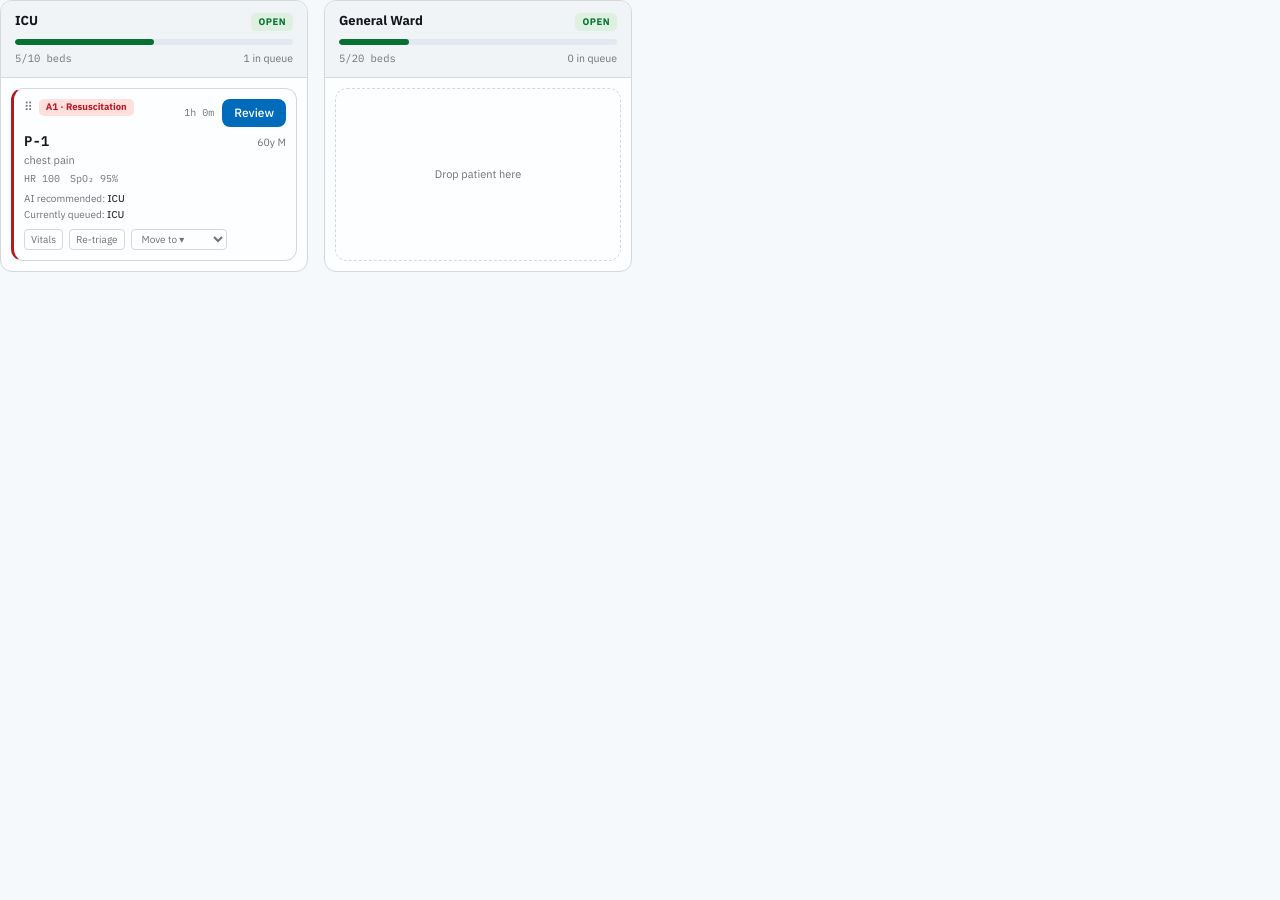
Test case: DepartmentQueueBoard › opens the AdmissionConfirmModal instead of admitting directly when confirmation_required is true
This screenshot has width=1280, height=900.
Click the button "Review": point(254, 113) [222, 99, 286, 127]
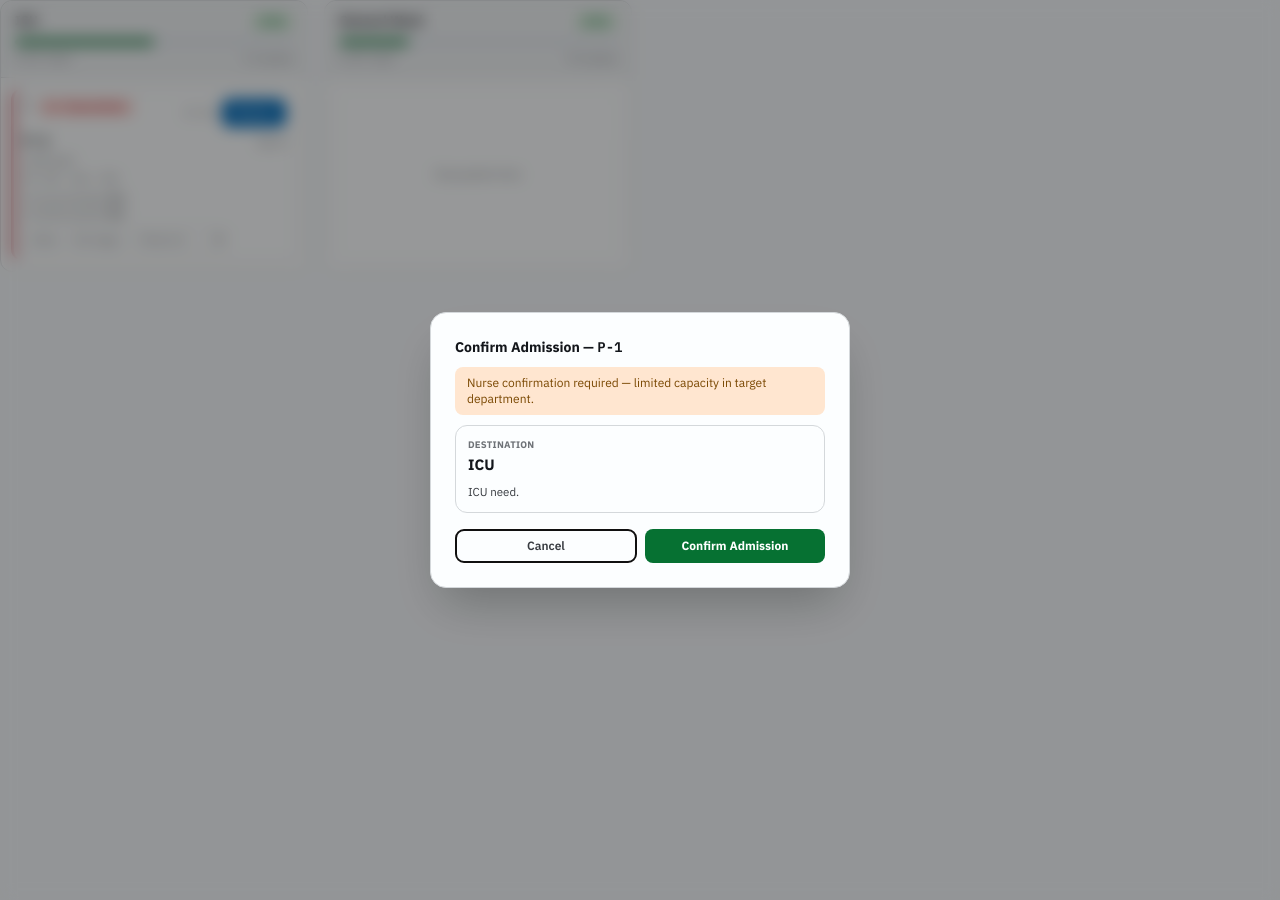
expect the button "Confirm Admission" is shown: met, box [645, 529, 825, 563]
expect the text "P-1" is shown: met, box [597, 338, 622, 356]
